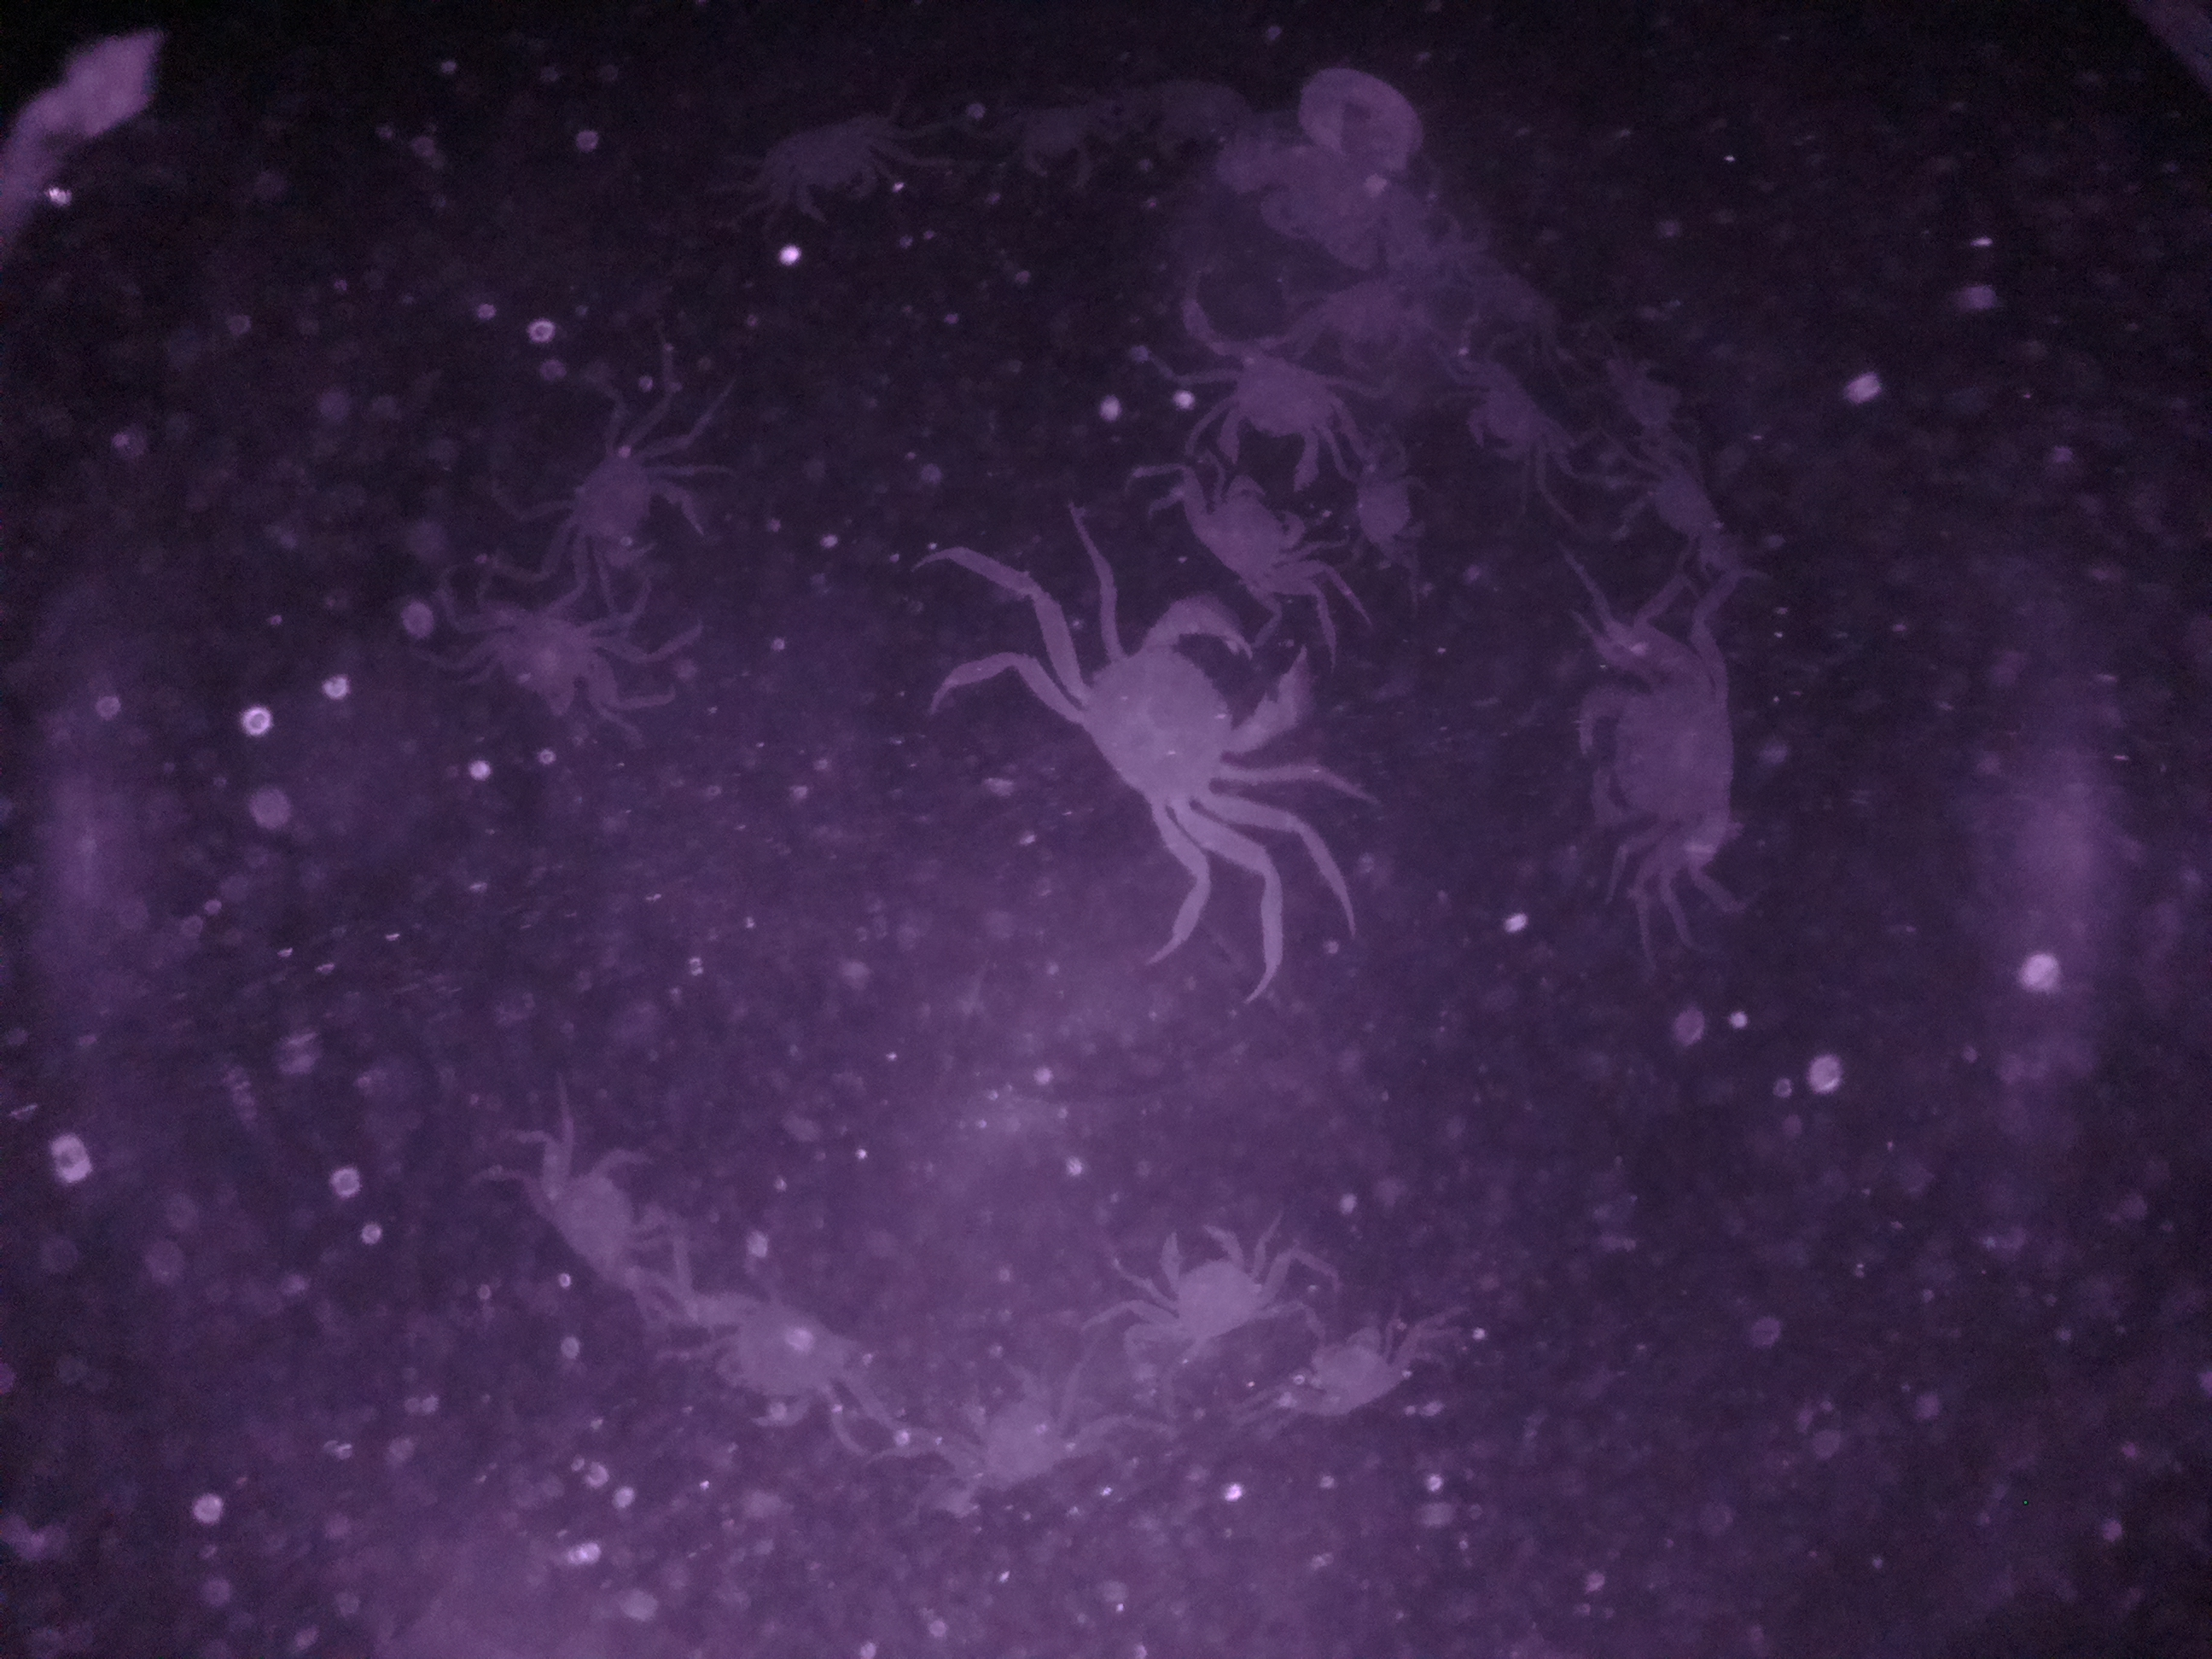Crab: (1026, 606, 1327, 875), (1559, 643, 1754, 890), (1172, 319, 1367, 498), (1120, 1208, 1292, 1368), (542, 410, 697, 584), (455, 586, 634, 730), (758, 96, 920, 237), (1278, 1309, 1428, 1436)
